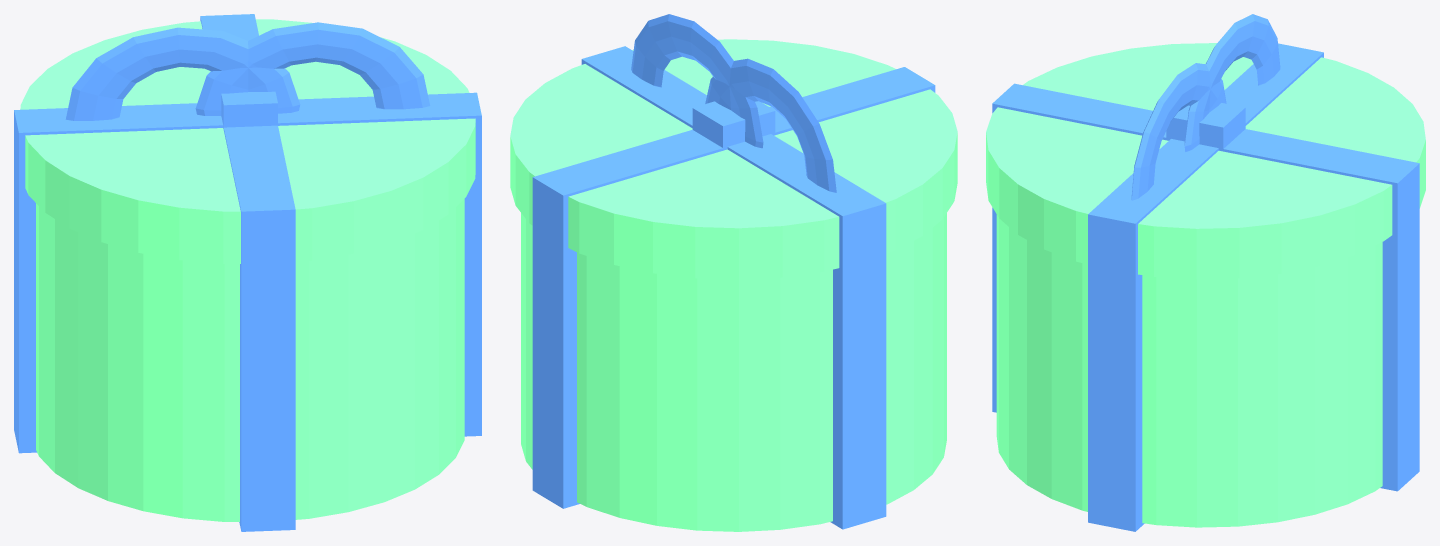
The model's file is Tmpl_Round_Root_192.glb.
3 renders of one model, left to right at view 1: azimuth 30°, elevation 25°; view 2: azimuth 150°, elevation 25°; view 3: azimuth 270°, elevation 25°, orthographic. The views are drawn at different scales.
Visible parts, largest first — view 1: Tmpl_Round_Base.190, Tmpl_Round_Lid.190, Tmpl_Round_Ribbon_Y.190, Tmpl_Round_Ribbon_X.190, Tmpl_Round_BowR.190, Tmpl_Round_BowL.190, Tmpl_Round_BowKnot.190; view 2: Tmpl_Round_Base.190, Tmpl_Round_Lid.190, Tmpl_Round_Ribbon_X.190, Tmpl_Round_Ribbon_Y.190, Tmpl_Round_BowR.190, Tmpl_Round_BowL.190, Tmpl_Round_BowKnot.190; view 3: Tmpl_Round_Base.190, Tmpl_Round_Lid.190, Tmpl_Round_Ribbon_X.190, Tmpl_Round_Ribbon_Y.190, Tmpl_Round_BowL.190, Tmpl_Round_BowR.190, Tmpl_Round_BowKnot.190.
Part boxes in pixels (left/top/right/bottom): Tmpl_Round_Base.190: left=36, top=199, right=464, bottom=521; Tmpl_Round_Lid.190: left=20, top=19, right=475, bottom=263; Tmpl_Round_Ribbon_Y.190: left=200, top=14, right=295, bottom=531; Tmpl_Round_Ribbon_X.190: left=14, top=92, right=481, bottom=453; Tmpl_Round_BowR.190: left=195, top=22, right=430, bottom=115; Tmpl_Round_BowL.190: left=65, top=27, right=300, bottom=120; Tmpl_Round_BowKnot.190: left=221, top=91, right=277, bottom=127; Tmpl_Round_Base.190: left=521, top=213, right=946, bottom=531; Tmpl_Round_Lid.190: left=510, top=39, right=957, bottom=279; Tmpl_Round_Ribbon_X.190: left=581, top=46, right=886, bottom=529; Tmpl_Round_Ribbon_Y.190: left=532, top=67, right=935, bottom=508; Tmpl_Round_BowR.190: left=631, top=14, right=763, bottom=148; Tmpl_Round_BowL.190: left=705, top=58, right=836, bottom=192; Tmpl_Round_BowKnot.190: left=692, top=101, right=775, bottom=150; Tmpl_Round_Base.190: left=996, top=214, right=1382, bottom=527; Tmpl_Round_Lid.190: left=986, top=43, right=1425, bottom=279; Tmpl_Round_Ribbon_X.190: left=1088, top=43, right=1323, bottom=531; Tmpl_Round_Ribbon_Y.190: left=992, top=83, right=1419, bottom=491; Tmpl_Round_BowL.190: left=1184, top=14, right=1280, bottom=151; Tmpl_Round_BowR.190: left=1131, top=63, right=1226, bottom=200; Tmpl_Round_BowKnot.190: left=1166, top=103, right=1245, bottom=151.
Size of the model in its own units: 0.9168 by 0.9034 by 0.9168.
